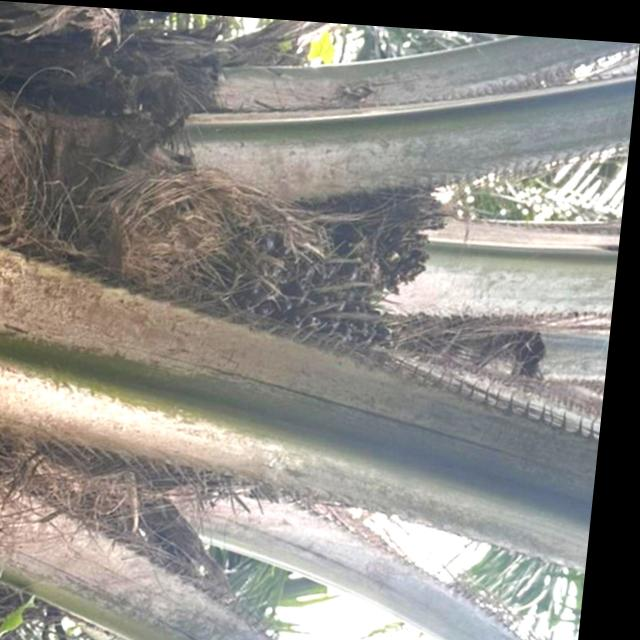almost: (175, 187, 425, 360)
